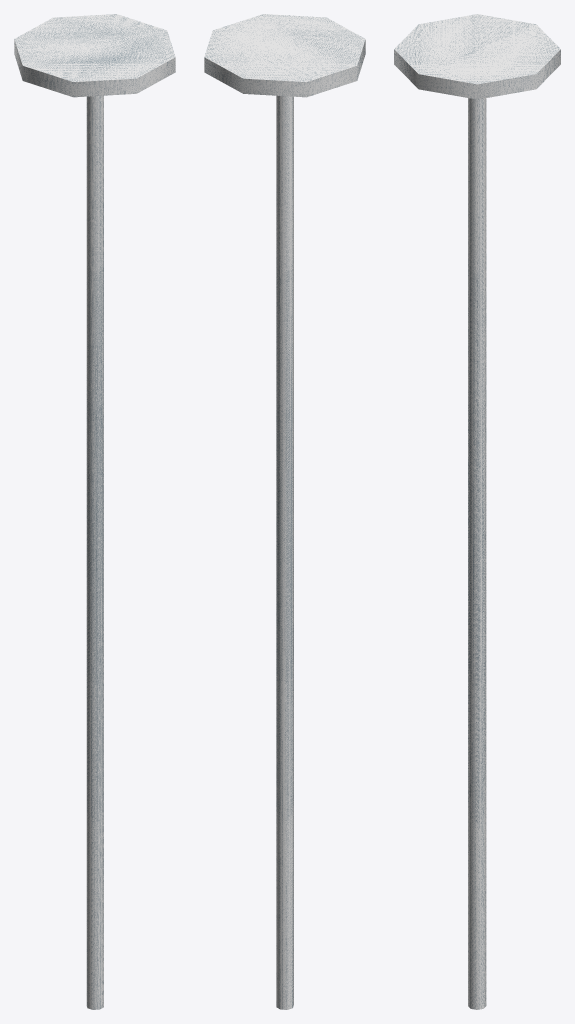
The model's file is rotate.fbx.
The picture shows the model from 3 angles, left to right: view 1: azimuth 30°, elevation 25°; view 2: azimuth 150°, elevation 25°; view 3: azimuth 270°, elevation 25°; orthographic projection.
Visible parts, largest first — view 1: Model; view 2: Model; view 3: Model.
Boxes of the visible parts, x1,y1,x2,y2 form: Model: (14,14,175,1009); Model: (204,14,365,1009); Model: (394,14,560,1009).
Bounding box in the file's own units: 39.25 × 248 × 39.25.
